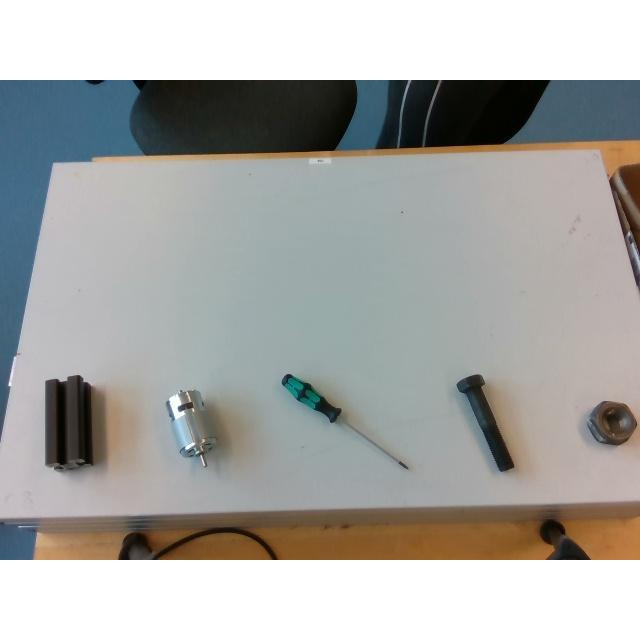M20_100: (458, 374, 514, 471)
M30: (588, 401, 636, 444)
Motor2: (166, 388, 216, 468)
S40_40_B: (45, 375, 91, 469)
Screwdriver: (281, 373, 407, 469)
